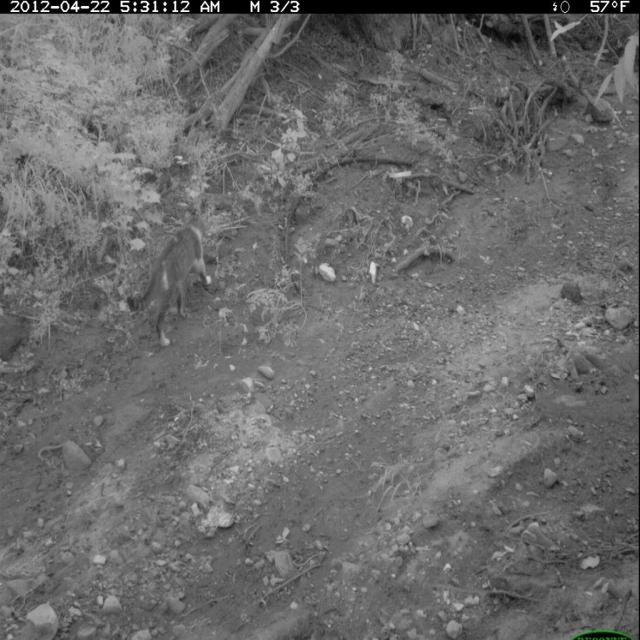cat: (121, 207, 219, 354)
